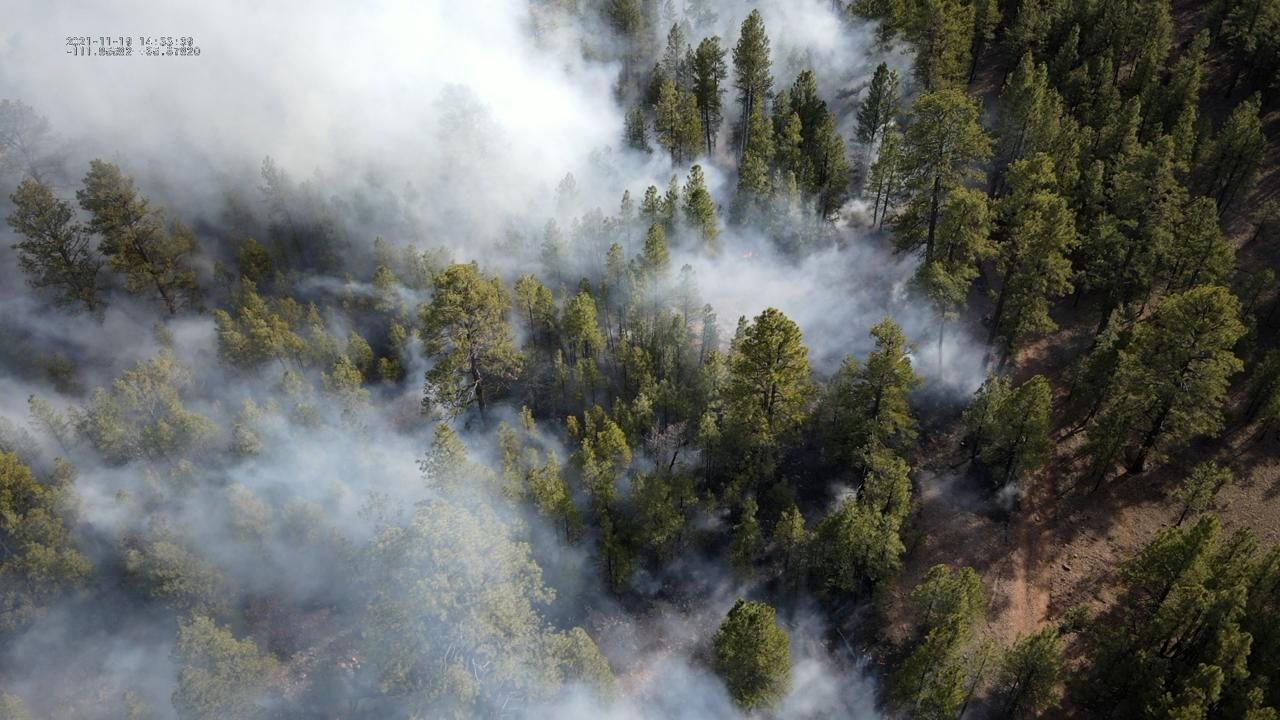fire: (742, 252, 753, 258)
smoke: (0, 0, 1031, 720)
